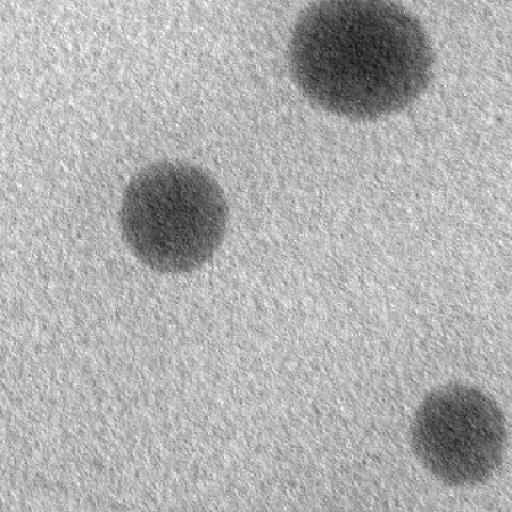Nanoparticles: (286, 0, 431, 118), (116, 158, 232, 274), (412, 381, 510, 485)
